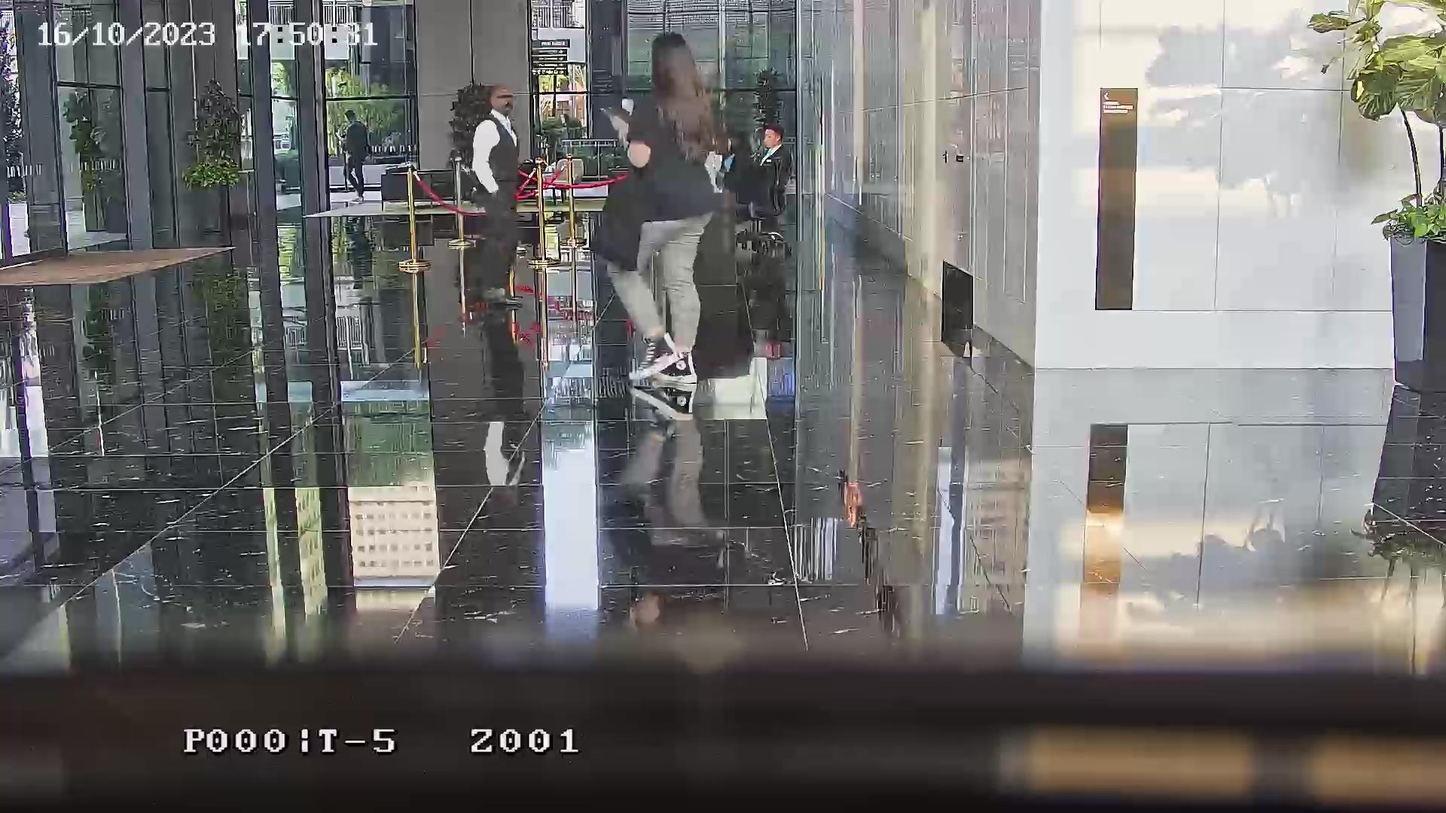person: (590, 31, 728, 391), (468, 83, 520, 305), (721, 131, 760, 207), (342, 113, 371, 200), (760, 124, 789, 186)
